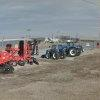Tractor: (41, 38, 92, 65)
